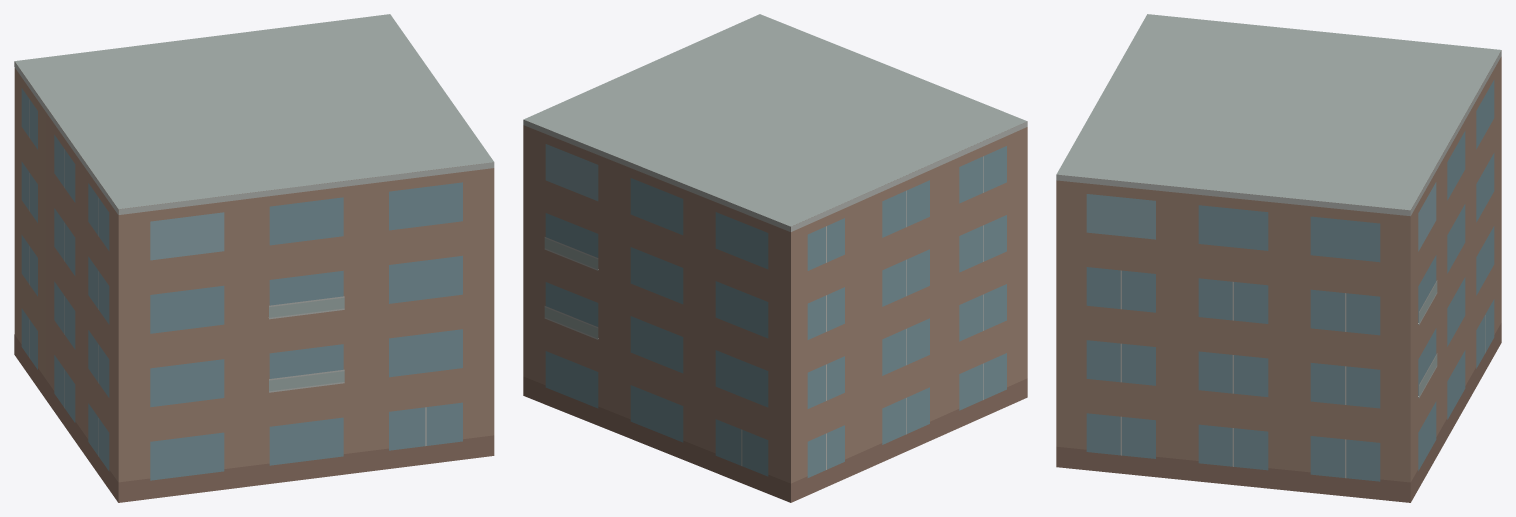
File: residential-bf3a0a36-dd87-4f0e-936c-51a70a549097.glb
The picture shows the model from 3 angles, left to right: view 1: azimuth 30°, elevation 25°; view 2: azimuth 150°, elevation 25°; view 3: azimuth 270°, elevation 25°; orthographic projection. The views are drawn at different scales.
Parts seen in each view (by area): view 1: residential-bf3a0a36-dd87-4f0e-936c-51a70a549097.tmp; view 2: residential-bf3a0a36-dd87-4f0e-936c-51a70a549097.tmp; view 3: residential-bf3a0a36-dd87-4f0e-936c-51a70a549097.tmp.
Part boxes in pixels (x1,y1,x2,y2): residential-bf3a0a36-dd87-4f0e-936c-51a70a549097.tmp: (14, 14, 494, 502); residential-bf3a0a36-dd87-4f0e-936c-51a70a549097.tmp: (523, 14, 1027, 502); residential-bf3a0a36-dd87-4f0e-936c-51a70a549097.tmp: (1056, 14, 1501, 502).
Bounding box in the file's own units: 17.57 × 12.2 × 16.84.
